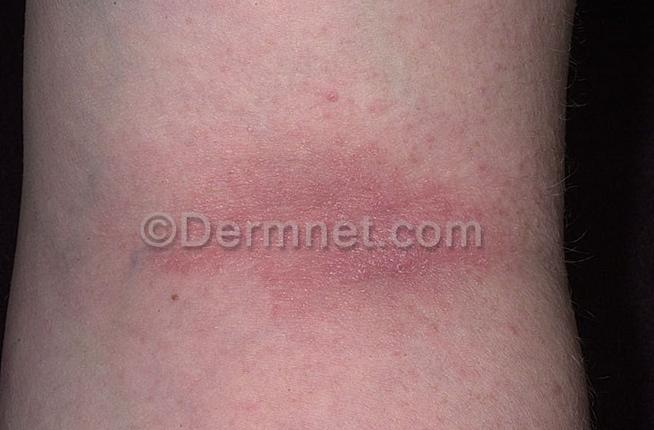Eritema 2: (138, 126, 531, 314)
